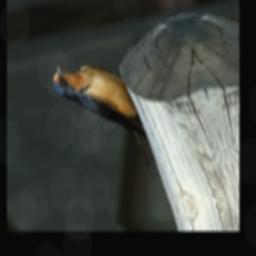Swallow: (47, 52, 157, 185)
